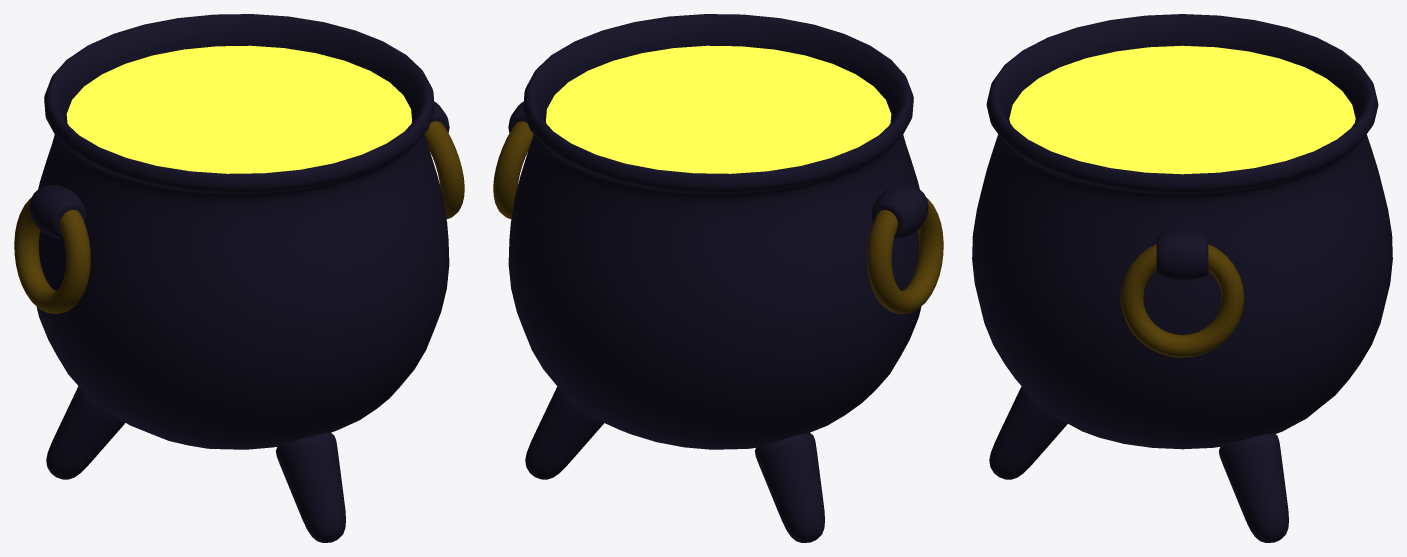
The model's file is cauldron.fbx.
3 views of the same model, side by side, from view 1: azimuth 30°, elevation 25°; view 2: azimuth 150°, elevation 25°; view 3: azimuth 270°, elevation 25° (orthographic).
Parts seen in each view (by area): view 1: cauldron, soup; view 2: cauldron, soup; view 3: cauldron, soup.
Part boxes in pixels (x1=…): cauldron: x1=14, y1=14, x2=464, y2=542; soup: x1=66, y1=45, x2=411, y2=173; cauldron: x1=493, y1=14, x2=943, y2=542; soup: x1=546, y1=45, x2=891, y2=173; cauldron: x1=972, y1=14, x2=1392, y2=542; soup: x1=1009, y1=45, x2=1355, y2=174.
Bounding box in the file's own units: 194 × 174 × 174.
